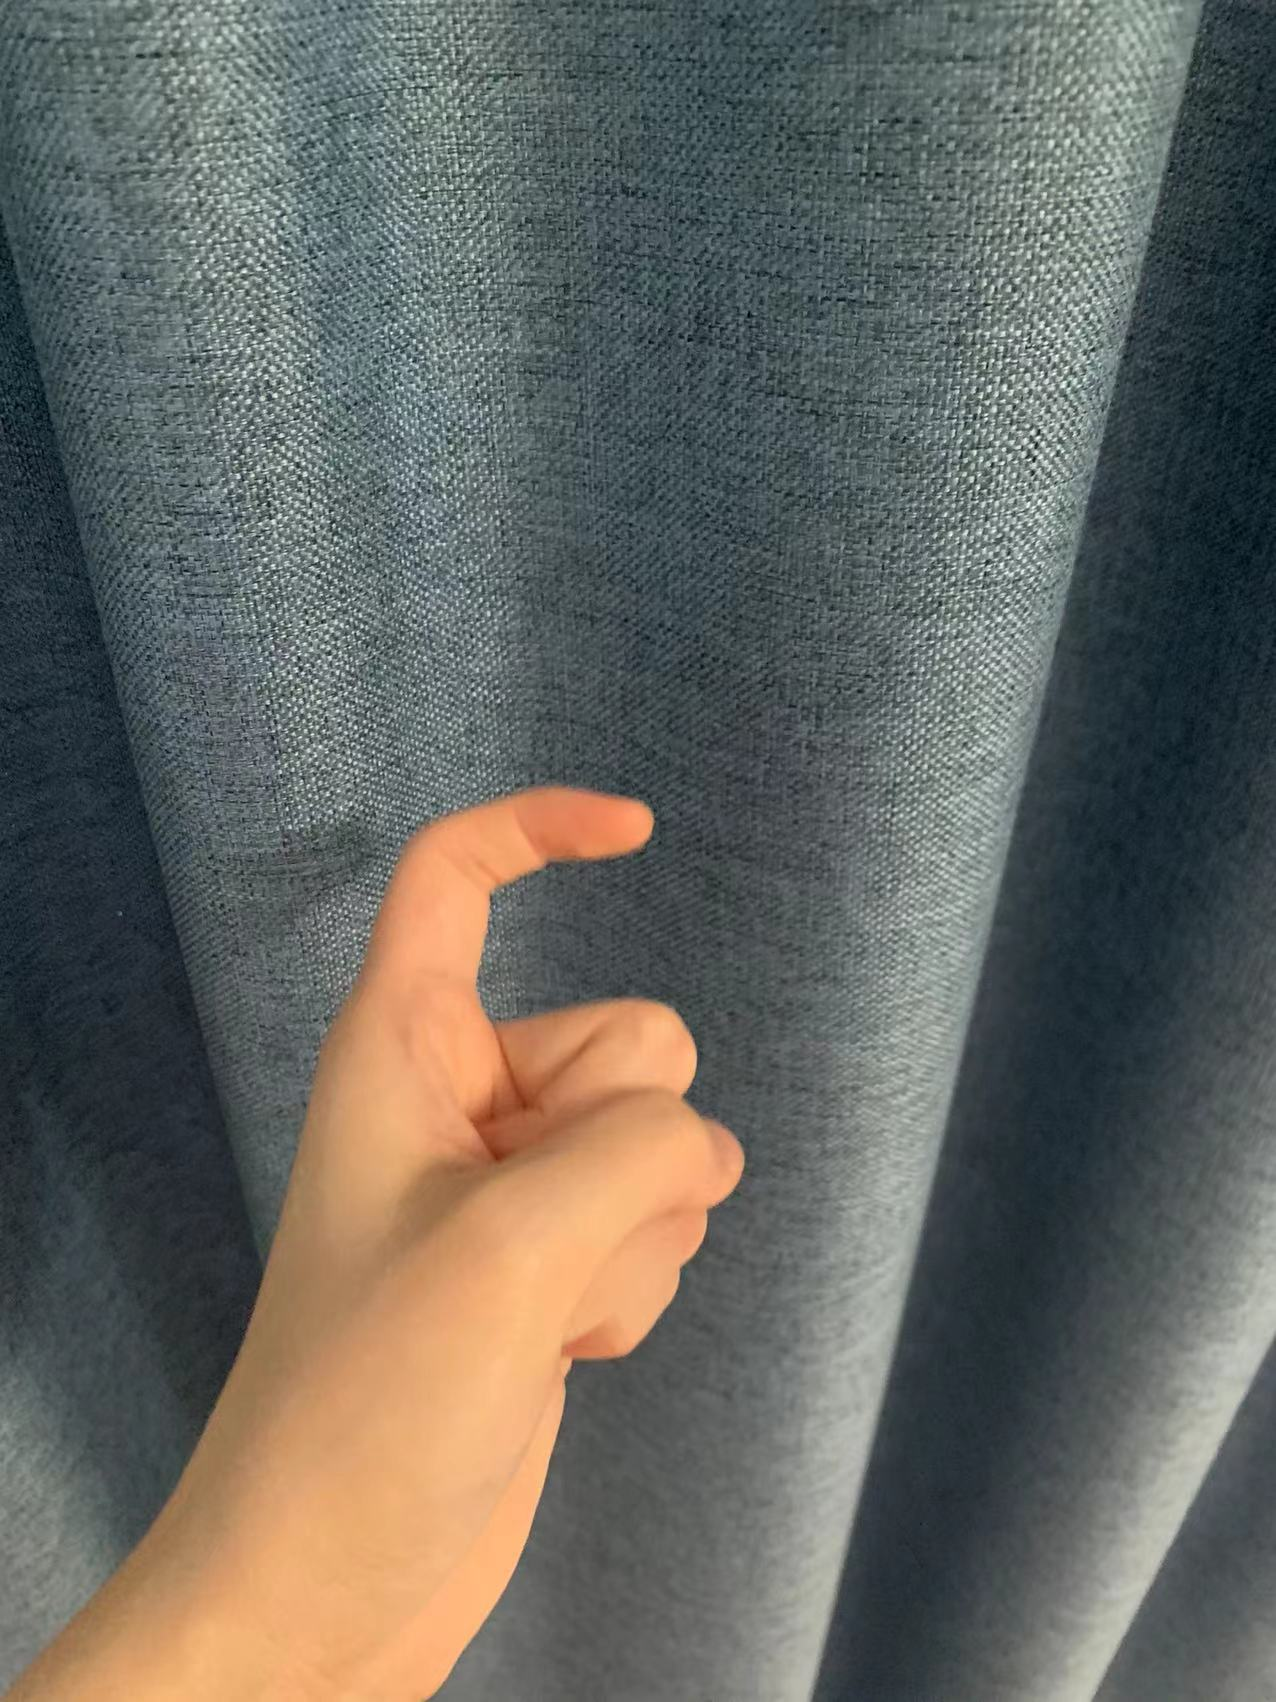anticlockwise: (202, 780, 743, 1573)
